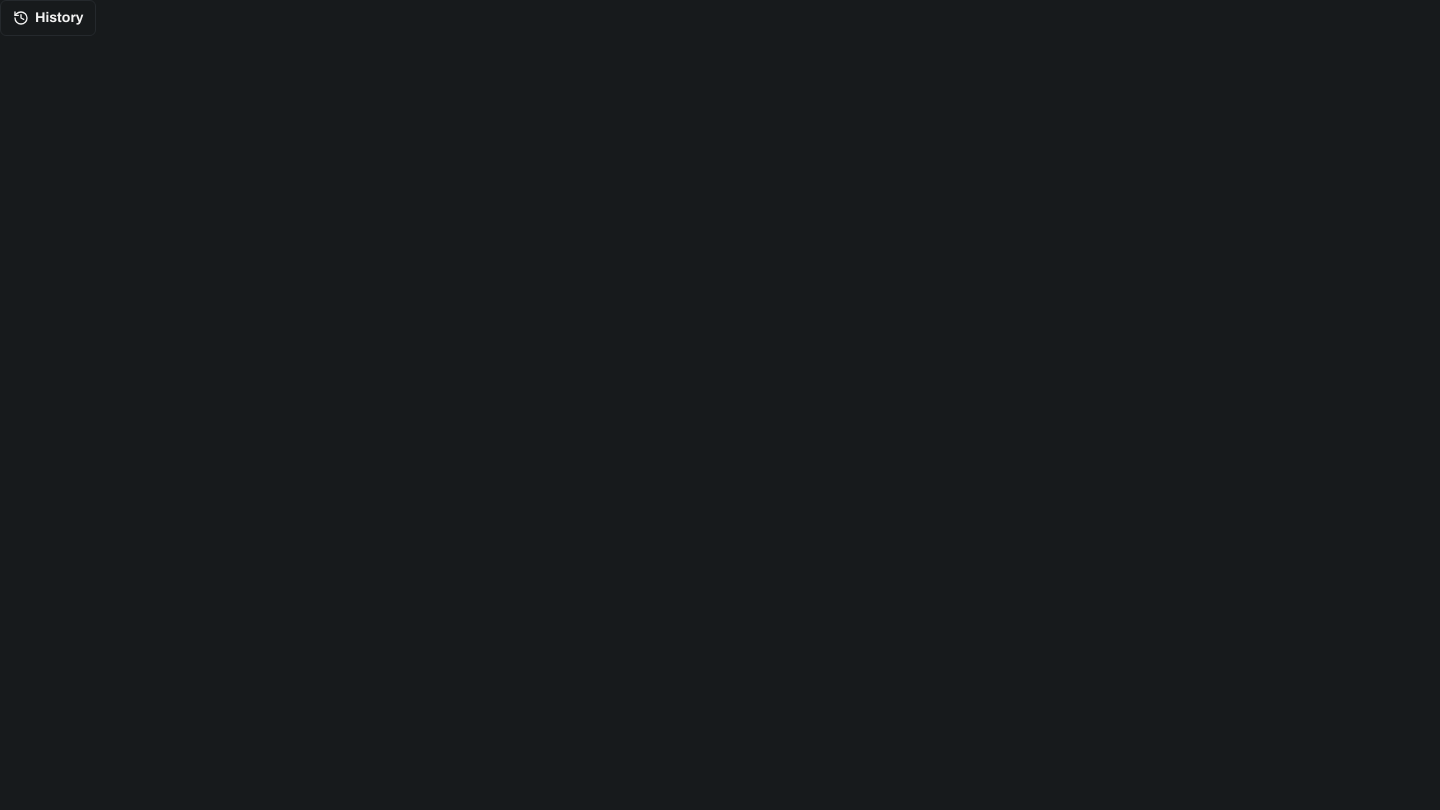
Test: History reopens a game to correct it › offers Reopen when the live record exists, confirms, then opens THAT game
Later steps or results of the test are not shown.
Step 1. Click the button "History" → (48, 18), box [0,0,96,36]
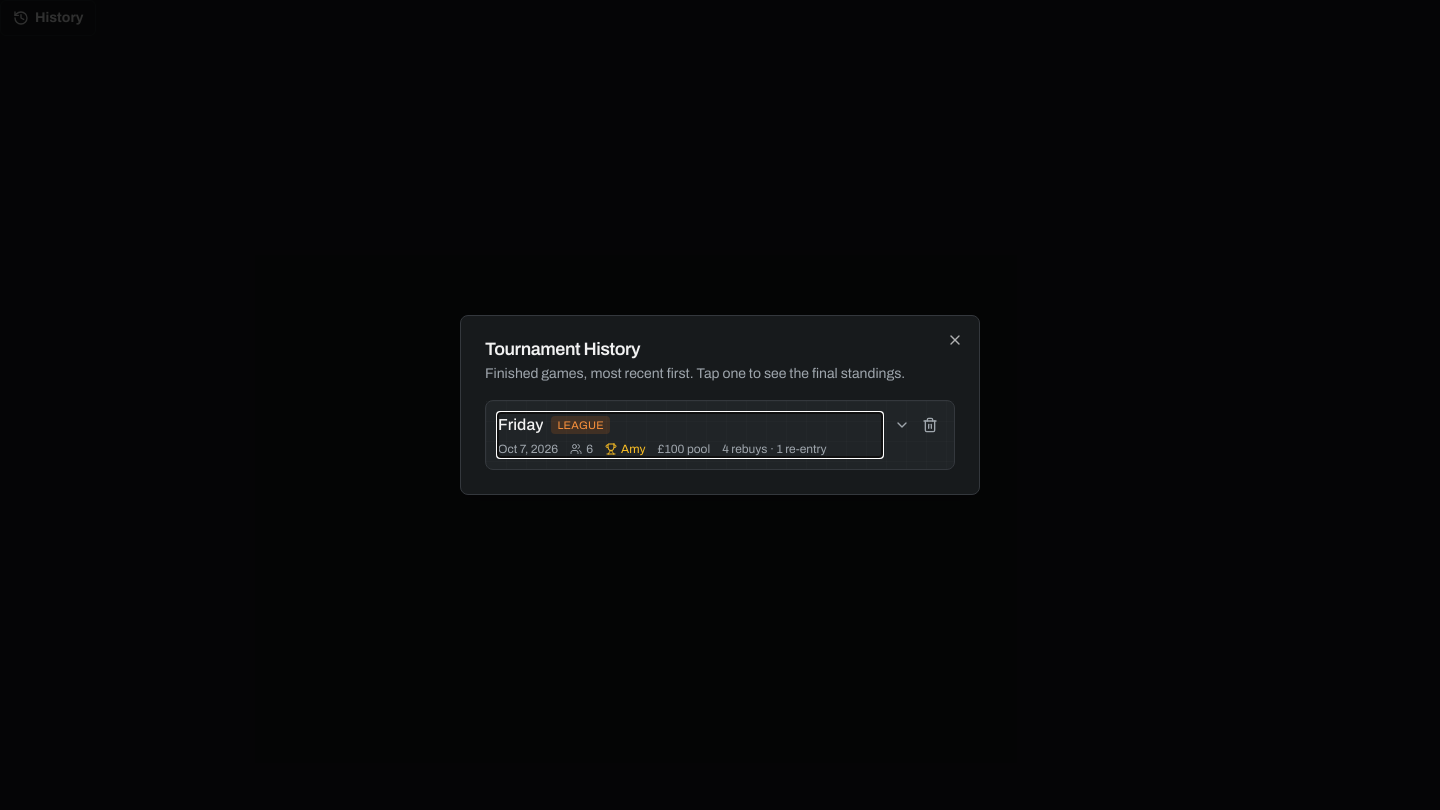
Step 2. Click the text "Friday" → (521, 425), box [498,413,544,437]
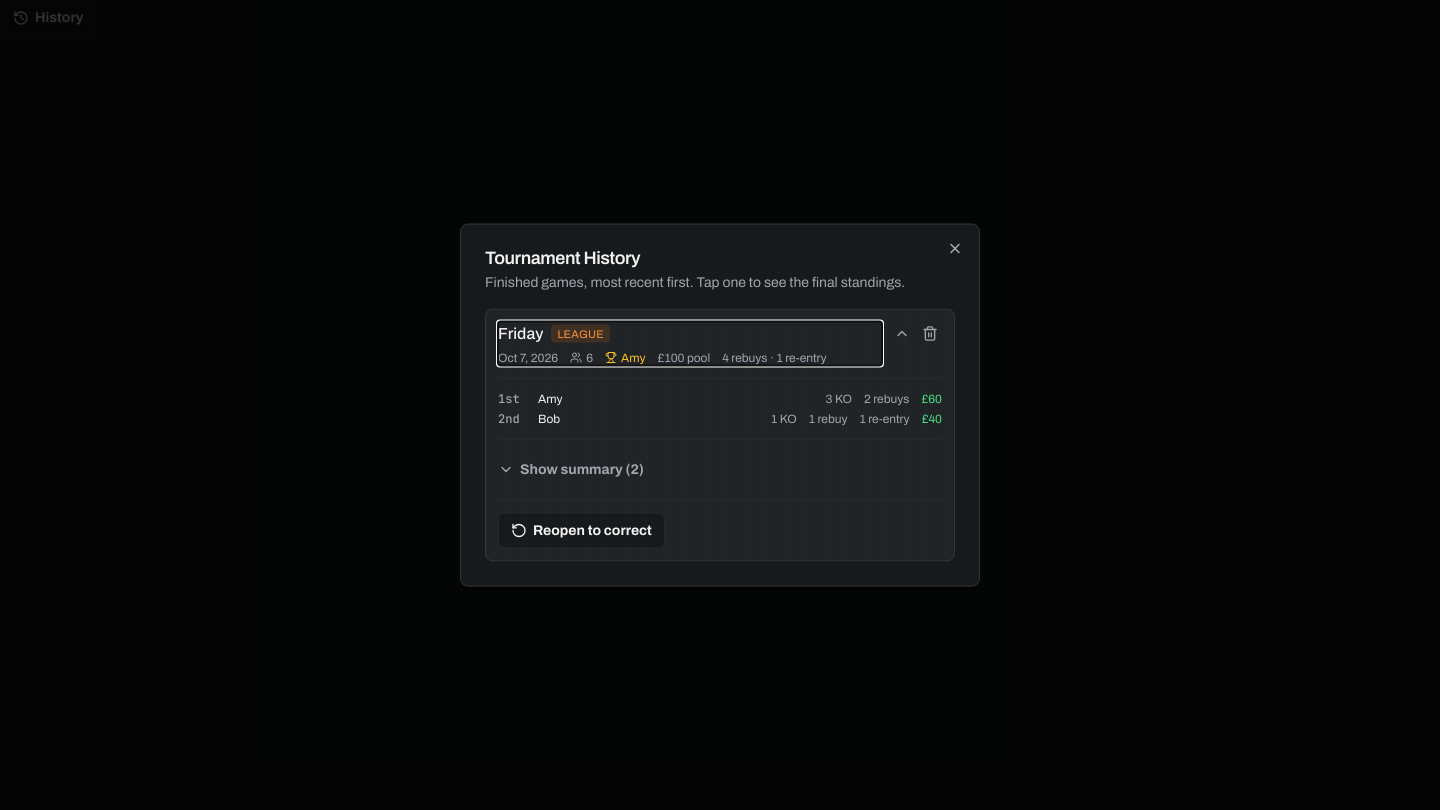
Step 3. Click the button "Reopen to correct" → (581, 530), box [498,512,665,548]
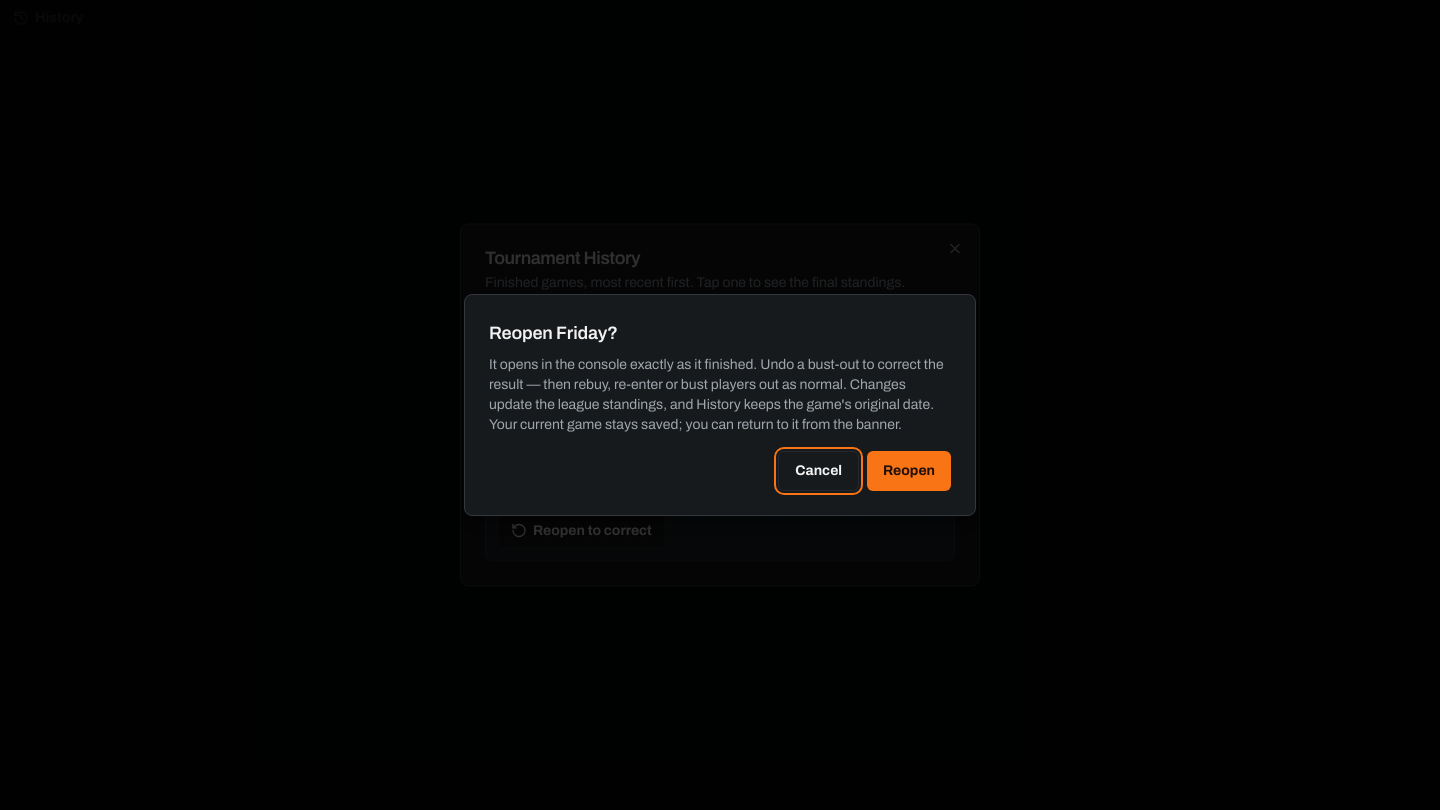
Result: the text "Undo a bust-out to correct the result" is shown at [489,357,944,412]
Result: the text "Your current game stays saved" is shown at [489,417,902,432]
